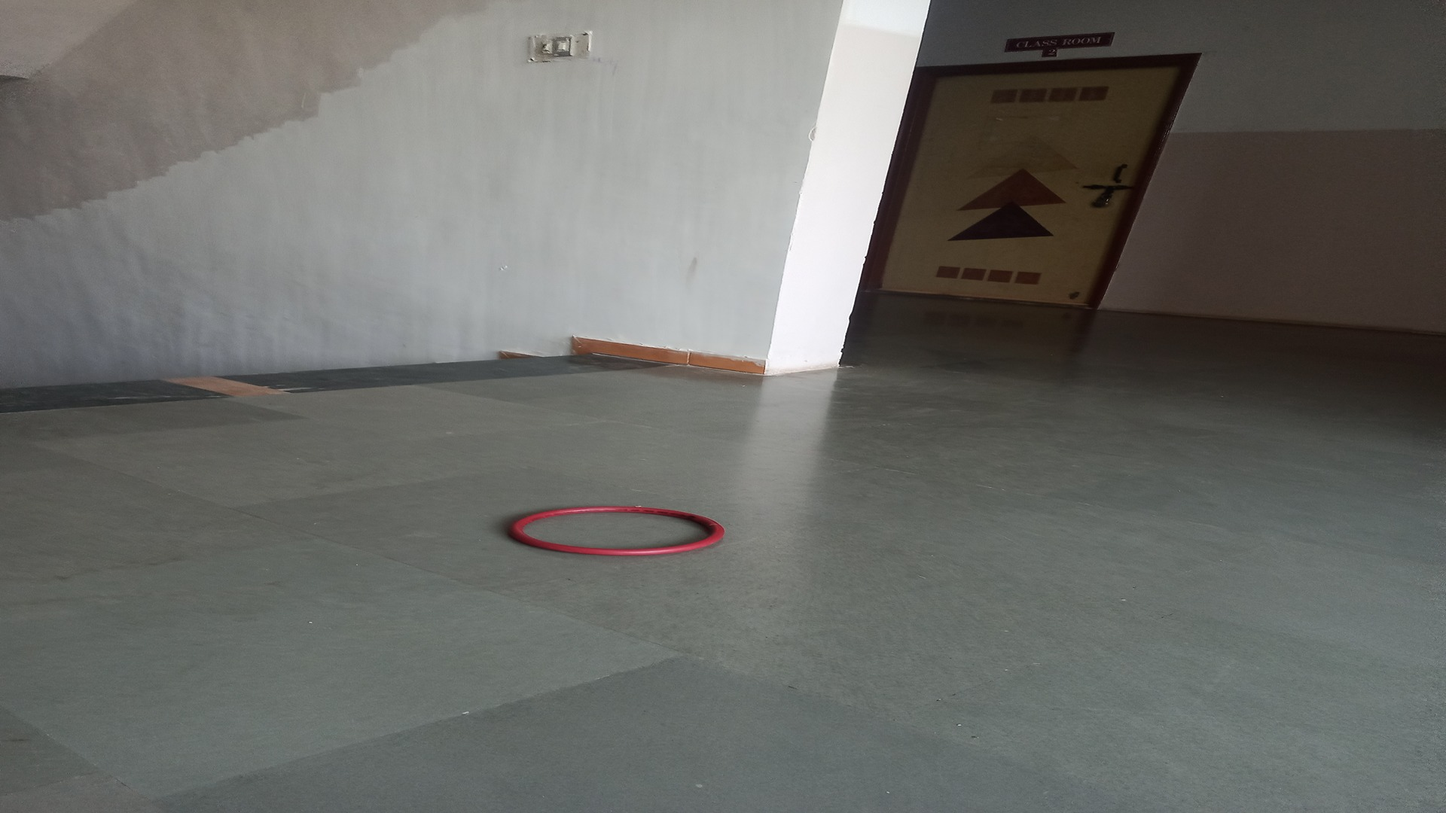Red ring: (503, 505, 727, 557)
